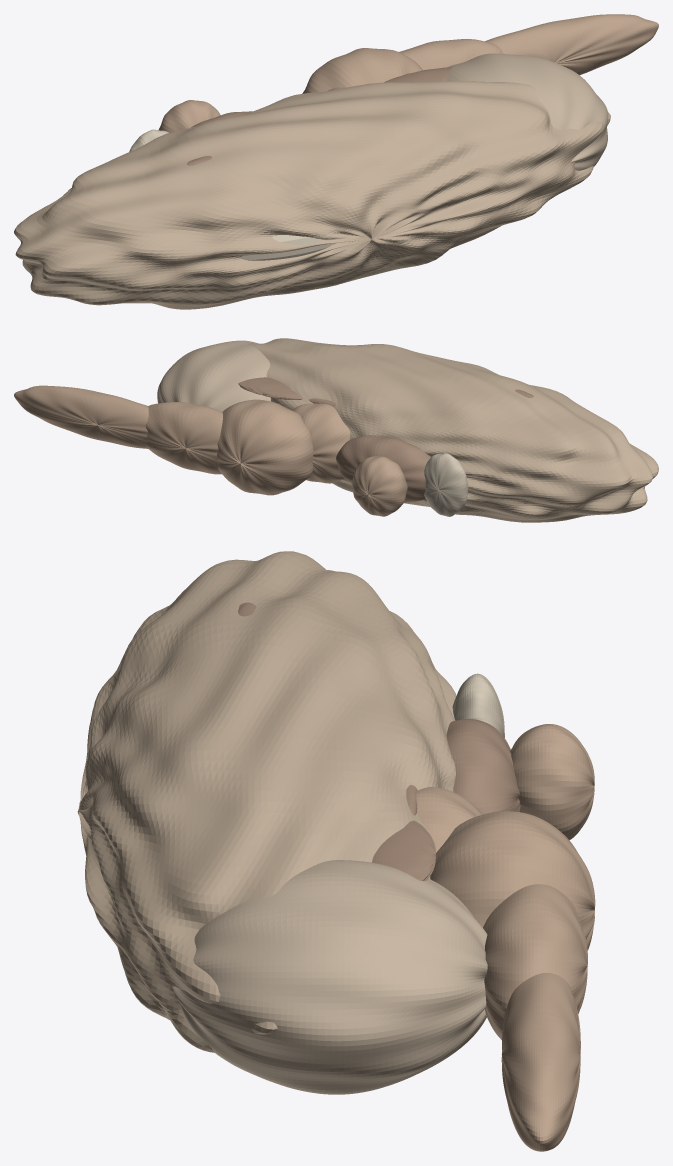
The model's file is 02_mid_sagittal_cut.glb.
3 renders of one model, top to bottom at view 1: azimuth 30°, elevation 25°; view 2: azimuth 150°, elevation 25°; view 3: azimuth 270°, elevation 25°, orthographic. The views are drawn at different scales.
Visible parts, largest first — view 1: Cerebrum midsagittal cut, Cerebellum, Spinal cord, Pons, Medulla, Pituitary gland, Corpus callosum, Fourth ventricle; view 2: Cerebrum midsagittal cut, Pons, Cerebellum, Spinal cord, Medulla, Hypothalamus, Midbrain, Pituitary gland, Optic chiasm, Fourth ventricle; view 3: Cerebrum midsagittal cut, Cerebellum, Pons, Spinal cord, Medulla, Pituitary gland, Hypothalamus, Fourth ventricle, Midbrain, Optic chiasm.
Part boxes in pixels (left/top/right/bottom): Cerebrum midsagittal cut: left=14, top=81, right=610, bottom=309; Cerebellum: left=447, top=53, right=608, bottom=170; Spinal cord: left=485, top=14, right=658, bottom=75; Pons: left=302, top=48, right=422, bottom=93; Medulla: left=399, top=39, right=503, bottom=70; Pituitary gland: left=158, top=100, right=220, bottom=132; Corpus callosum: left=240, top=235, right=336, bottom=260; Fourth ventricle: left=384, top=67, right=451, bottom=82; Cerebrum midsagittal cut: left=248, top=338, right=658, bottom=522; Pons: left=217, top=399, right=313, bottom=495; Cerebellum: left=157, top=340, right=270, bottom=411; Spinal cord: left=14, top=385, right=148, bottom=448; Medulla: left=145, top=402, right=222, bottom=474; Hypothalamus: left=336, top=435, right=430, bottom=502; Midbrain: left=292, top=403, right=350, bottom=483; Pituitary gland: left=352, top=456, right=407, bottom=516; Optic chiasm: left=424, top=453, right=468, bottom=516; Fourth ventricle: left=238, top=377, right=302, bottom=399; Cerebrum midsagittal cut: left=77, top=551, right=456, bottom=1052; Cerebellum: left=172, top=860, right=487, bottom=1094; Pons: left=430, top=811, right=595, bottom=950; Spinal cord: left=501, top=973, right=580, bottom=1151; Medulla: left=483, top=884, right=587, bottom=1039; Pituitary gland: left=510, top=724, right=594, bottom=840; Hypothalamus: left=446, top=719, right=520, bottom=814; Fourth ventricle: left=372, top=820, right=435, bottom=880; Midbrain: left=416, top=787, right=482, bottom=852; Optic chiasm: left=452, top=673, right=504, bottom=737.
Size of the model in its own units: 5.75 by 1.21 by 2.25.
